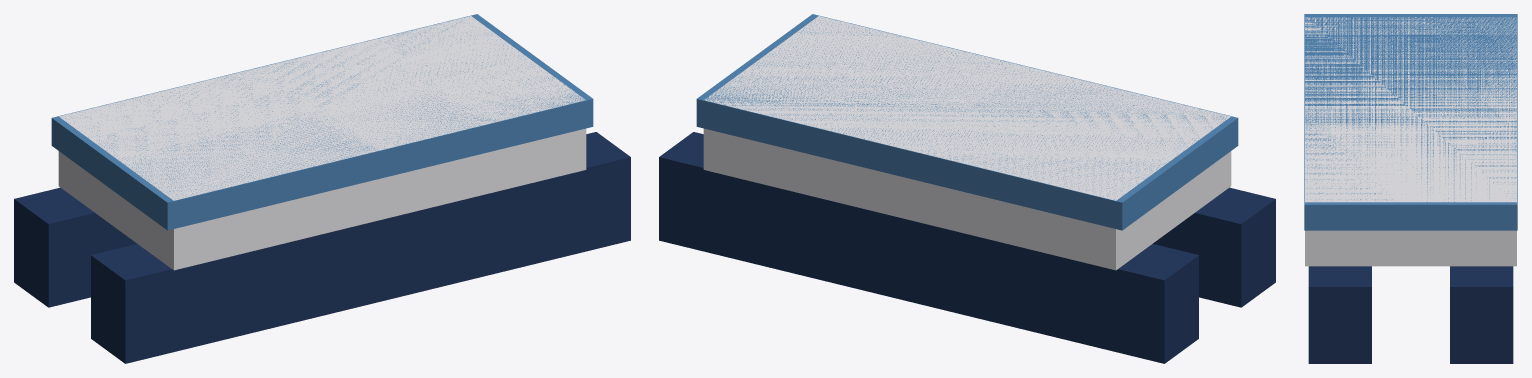
The model's file is ferry_2015.glb.
The picture shows the model from 3 angles, left to right: view 1: azimuth 30°, elevation 25°; view 2: azimuth 150°, elevation 25°; view 3: azimuth 270°, elevation 25°; orthographic projection. The views are drawn at different scales.
Parts seen in each view (by area): view 1: Deck, HullR, Windows, HullL; view 2: Deck, HullL, Windows, HullR; view 3: Deck, Windows, HullL, HullR.
Boxes of the visible parts, x1,y1,x2,y2 form: Deck: (58, 16, 586, 270); HullR: (91, 132, 630, 363); Windows: (51, 14, 593, 230); HullL: (14, 187, 136, 307); Deck: (703, 16, 1231, 270); HullL: (659, 132, 1198, 363); Windows: (696, 14, 1238, 230); HullR: (1153, 187, 1275, 307); Deck: (1305, 17, 1516, 266); Windows: (1304, 14, 1517, 230); HullL: (1450, 266, 1513, 363); HullR: (1308, 266, 1371, 363).
Size of the model in its own units: 0.76 by 0.22 by 0.302.
